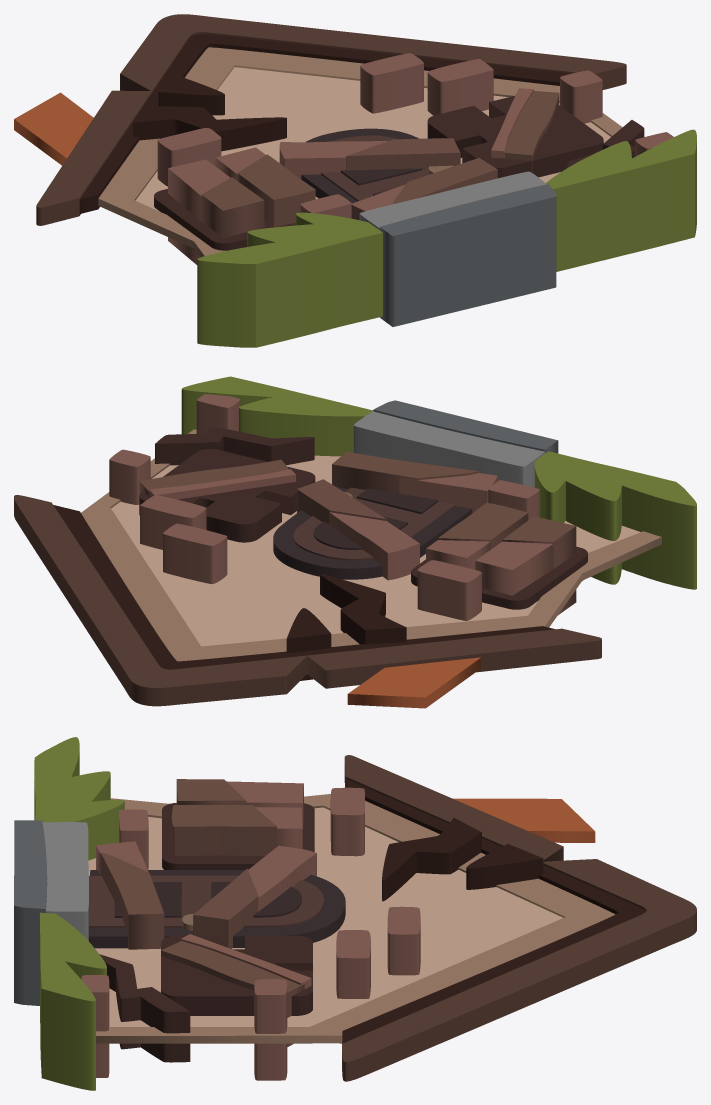
Rendered from emoji_u1f3da.glb.
The picture shows the model from 3 angles, top to bottom: view 1: azimuth 30°, elevation 25°; view 2: azimuth 150°, elevation 25°; view 3: azimuth 270°, elevation 25°; orthographic projection. The views are drawn at different scales.
Parts seen in each view (by area): view 1: emoji_u1f3da; view 2: emoji_u1f3da; view 3: emoji_u1f3da.
Part boxes in pixels (x1,y1,x2,y2): emoji_u1f3da: (14,14,696,347); emoji_u1f3da: (14,376,696,708); emoji_u1f3da: (14,737,696,1090).
Size of the model in its own units: 0.0338 by 0.005 by 0.0318.
